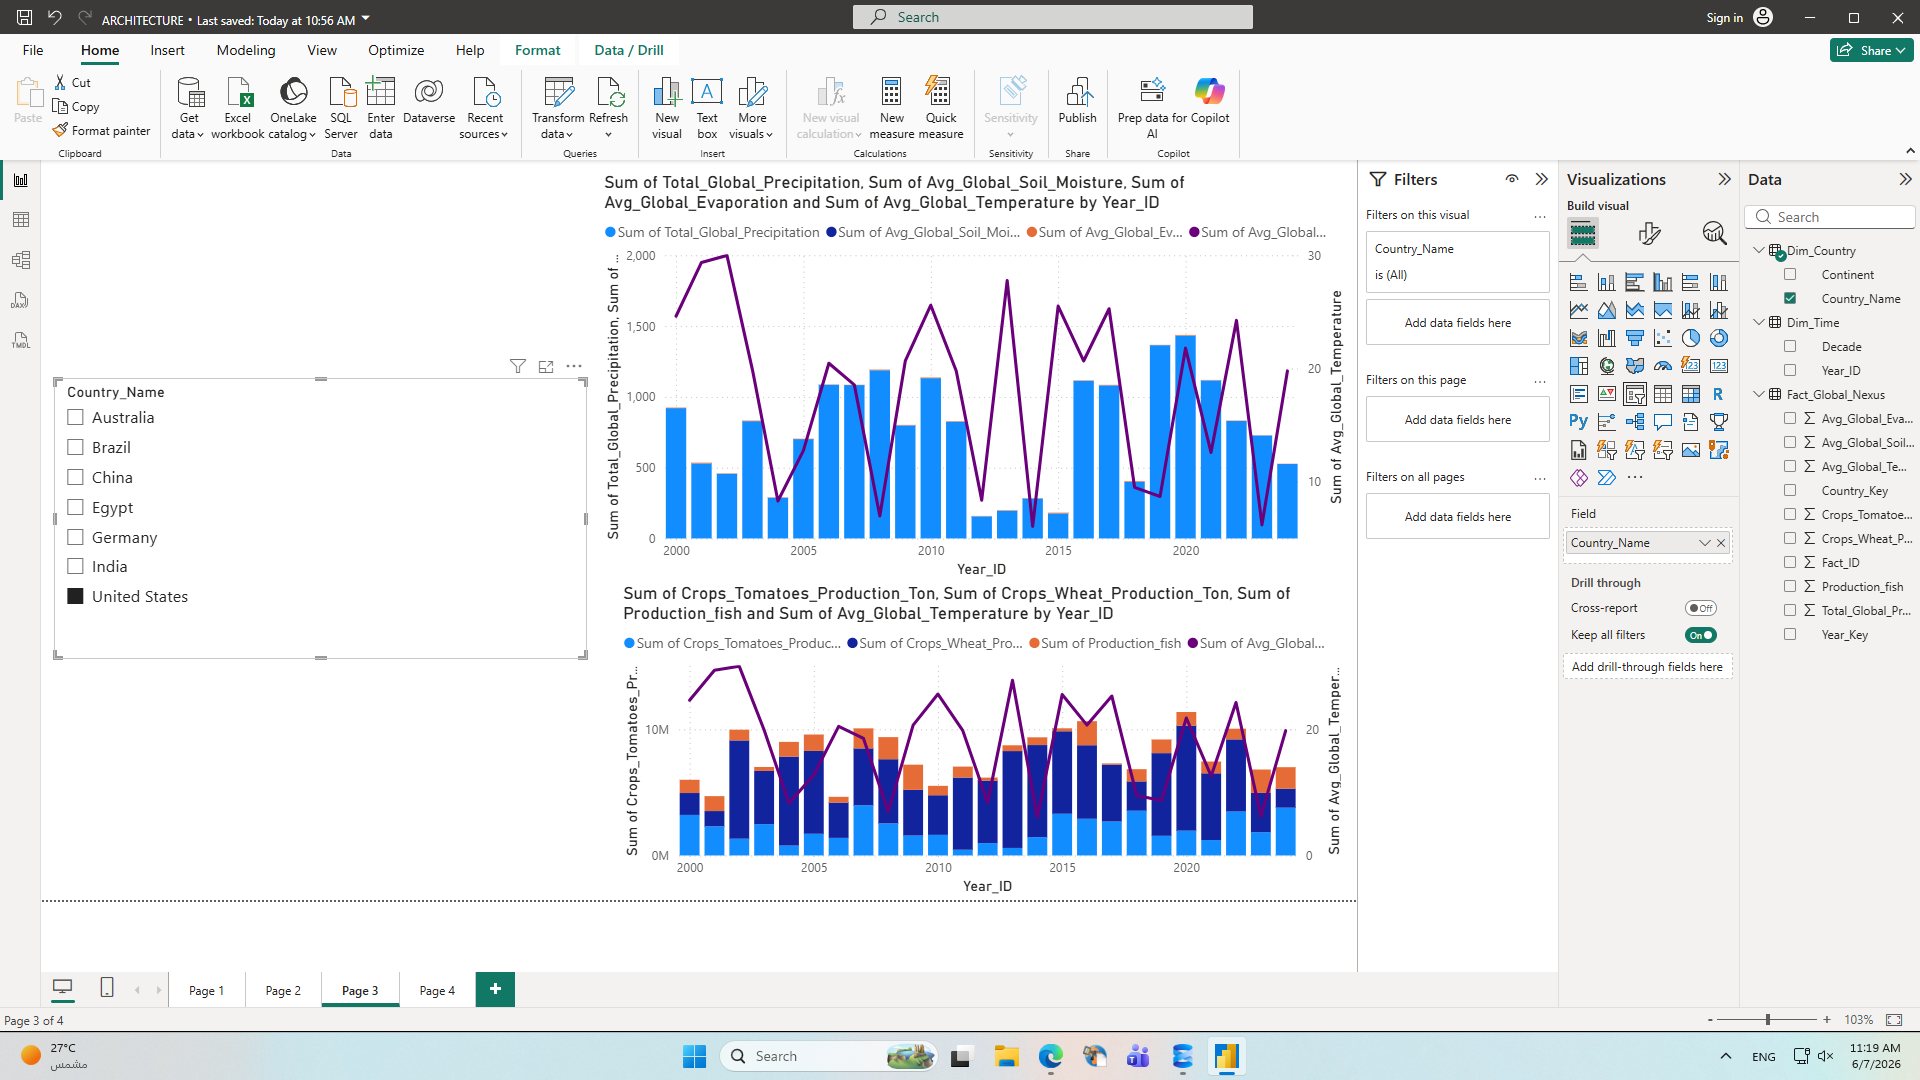

The page's visual inventory and layout, read from the dashboard file:
{"tool":"powerbi","page":{"name":"Page 3","canvas":[1280,720],"ordinal":2},"visuals":[{"type":"lineStackedColumnComboChart","fields":{"Category":["Dim_Time.Year_ID"],"Y":["Sum(Fact_Global_Nexus.Total_Global_Precipitation)","Sum(Fact_Global_Nexus.Avg_Global_Soil_Moisture)","Sum(Fact_Global_Nexus.Avg_Global_Evaporation)"],"Y2":["Sum(Fact_Global_Nexus.Avg_Global_Temperature)"]},"box":[542.7,11.7,728.5,399.8],"z":0},{"type":"slicer","fields":{"Values":["Dim_Country.Country_Name"]},"box":[12.6,212,518.4,273.3],"z":1000},{"type":"lineStackedColumnComboChart","fields":{"Category":["Dim_Time.Year_ID"],"Y":["Sum(Fact_Global_Nexus.Crops_Tomatoes_Production_Ton)","Sum(Fact_Global_Nexus.Crops_Wheat_Production_Ton)","Sum(Fact_Global_Nexus.Production_MT)"],"Y2":["Sum(Fact_Global_Nexus.Avg_Global_Temperature)"]},"box":[561.2,411.4,708.1,308.3],"z":2000}]}

Visuals, with their boxes on the page's 1280x720 design canvas (x1, y1, x2, y2). These are canvas units, not pixel positions in the 1920x1080 screenshot, which may show the page scaled, cropped or inside an application window:
lineStackedColumnComboChart - Dim_Time.Year_ID x Sum(Fact_Global_Nexus.Total_Global_Precipitation): Rect(543, 12, 1271, 412)
slicer - Dim_Country.Country_Name: Rect(13, 212, 531, 485)
lineStackedColumnComboChart - Dim_Time.Year_ID x Sum(Fact_Global_Nexus.Crops_Tomatoes_Production_Ton): Rect(561, 411, 1269, 720)
